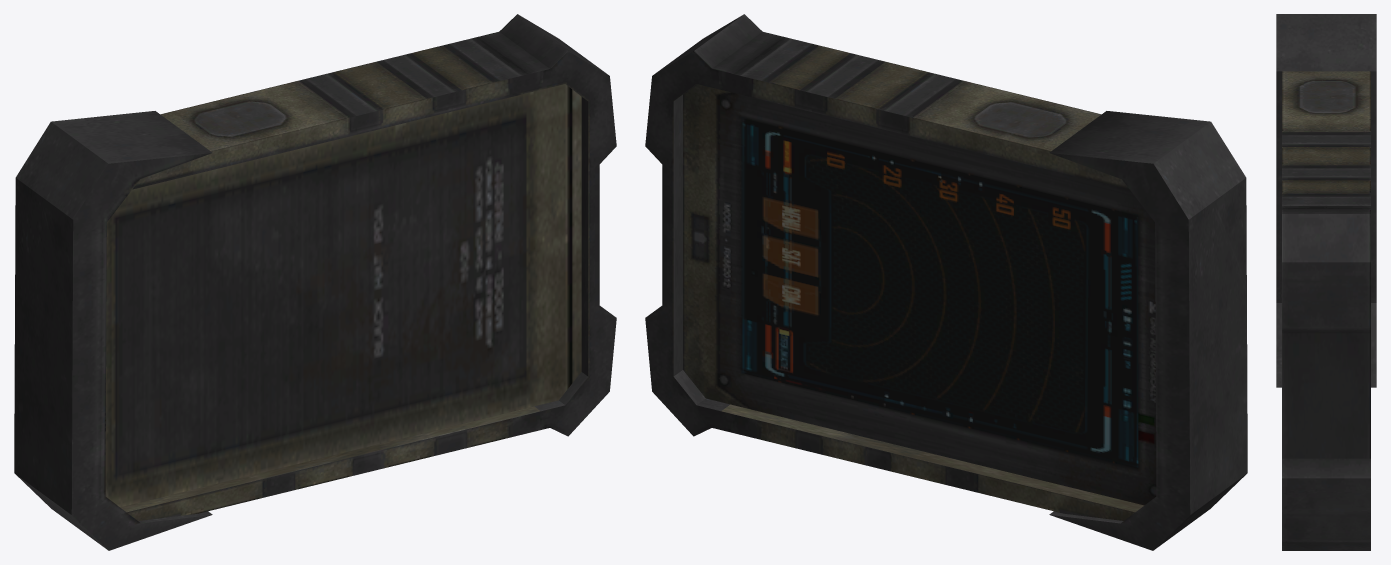
Rendered from t6_wpn_pda_world_LOD1.obj.
3 renders of one model, left to right at view 1: azimuth 30°, elevation 25°; view 2: azimuth 150°, elevation 25°; view 3: azimuth 270°, elevation 25°, orthographic. The views are drawn at different scales.
Parts seen in each view (by area): view 1: mtl_t6_wpn_pda; view 2: mtl_t6_wpn_pda; view 3: mtl_t6_wpn_pda.
Boxes of the visible parts, <box> form: mtl_t6_wpn_pda: <box>14,14,616,550</box>; mtl_t6_wpn_pda: <box>645,14,1247,550</box>; mtl_t6_wpn_pda: <box>1276,14,1376,550</box>.
Size of the model in its own units: 14.2 by 9.61 by 2.58.
